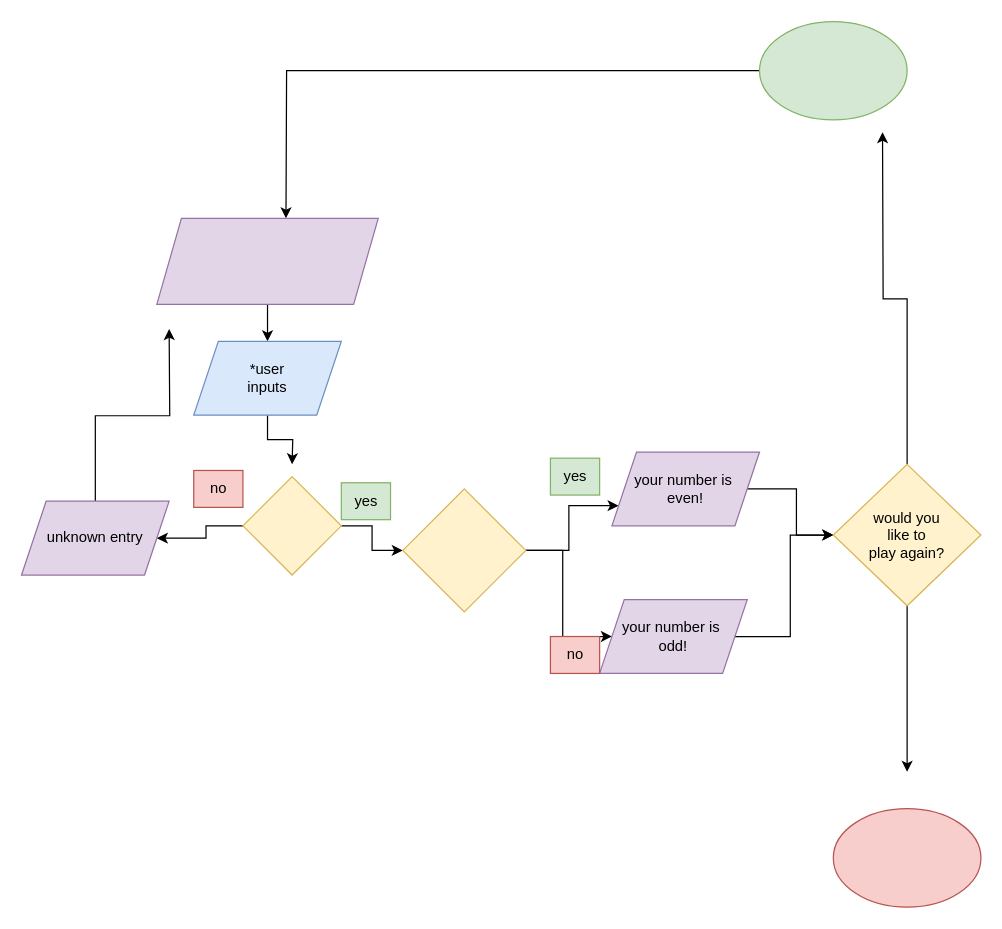
This 1002x929 diagram has some shape labels left out. Here are the shapes that lost their labels. From the top down, the box of each, then its label:
(758, 20, 907, 120): start
(156, 217, 378, 304): enter your number
(242, 475, 341, 575): is this an integer?
(402, 488, 526, 612): is it divisible by 2 & no remainder?
(832, 807, 981, 907): end
